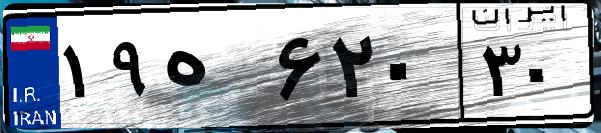0: (385, 28, 445, 110), (525, 38, 570, 115)
1: (57, 26, 110, 100)
2: (330, 28, 385, 110)
3: (475, 38, 525, 113)
6: (270, 28, 330, 110)
9: (110, 28, 158, 98)
ه: (158, 20, 270, 120)
